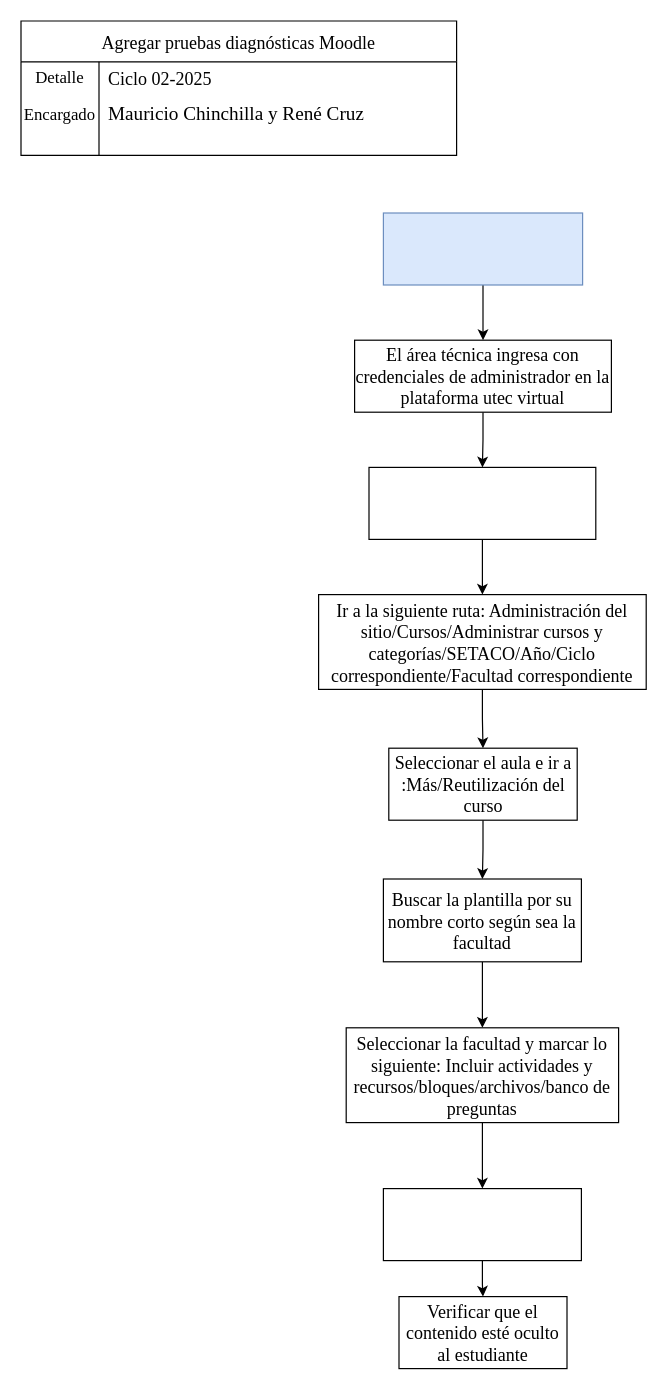
Some shapes in this 667 by 1390 pixel diagram are drawn without their labels. Each missing label, with the centre of its shape:
En el selector escoger la opción "FACS-FADD-SETACO-CURSOS LIBRES": pixel 482 502
Importación de pruebas diagósticas en Moodle: pixel 482 248
Seleccionar unicamente la casilla de pruebas diganósticas: pixel 481 1224
